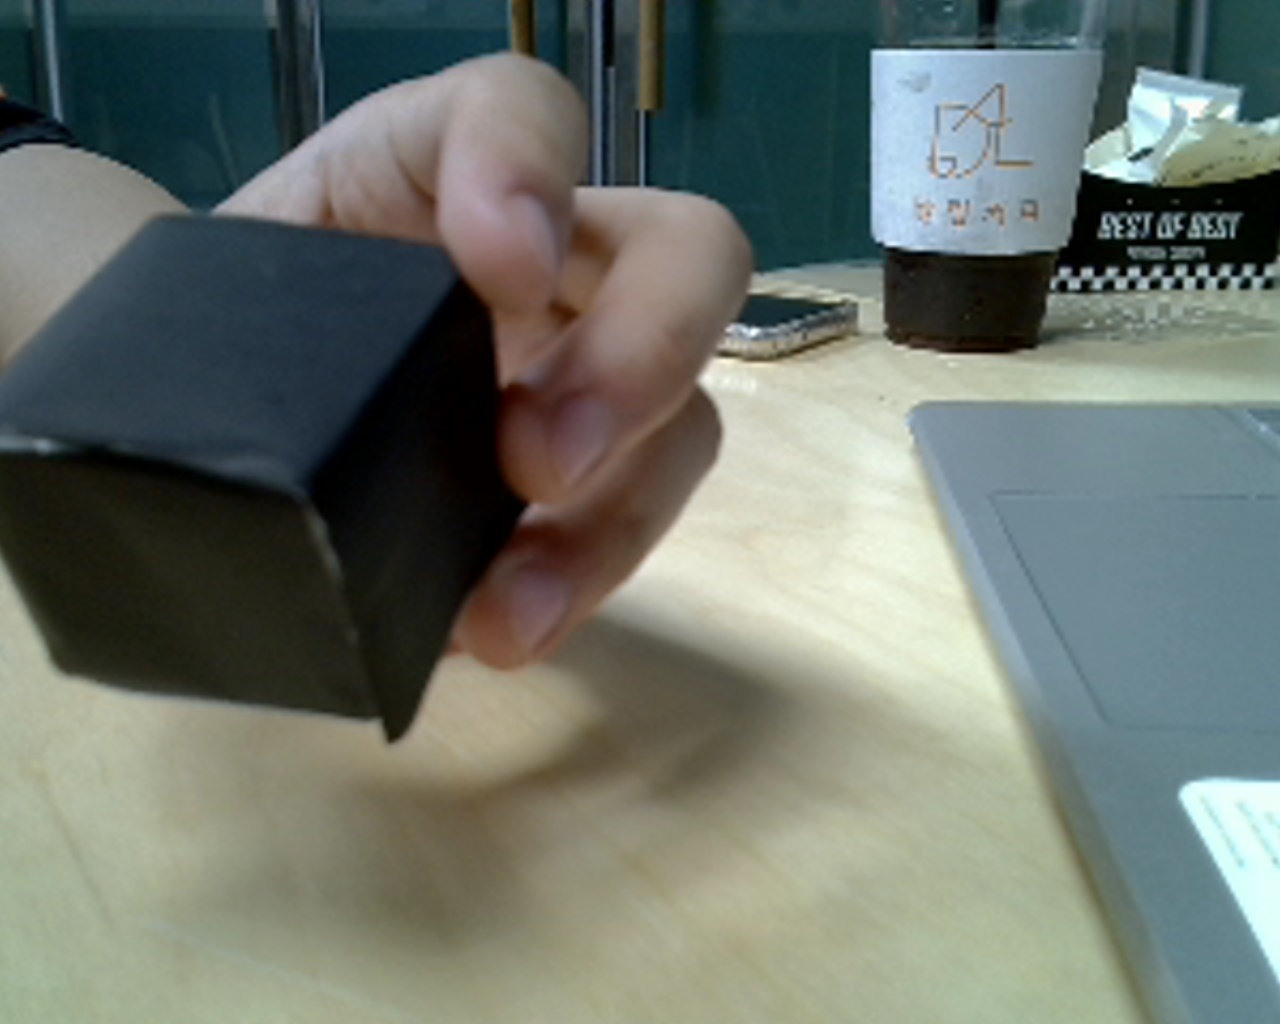blackbox: (6, 167, 601, 774)
